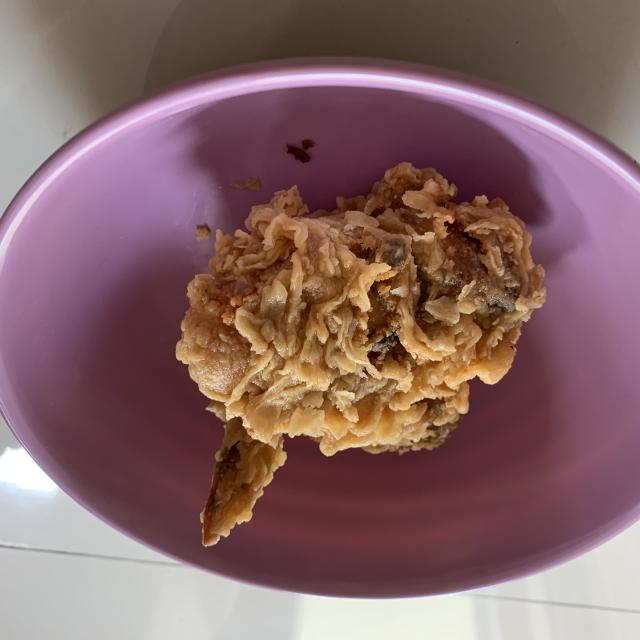Frango: (174, 164, 549, 548)
